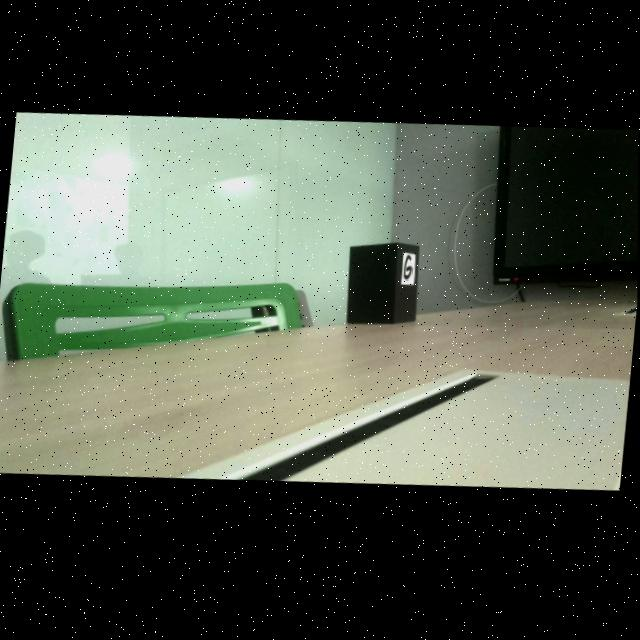G: (404, 260, 412, 285)
